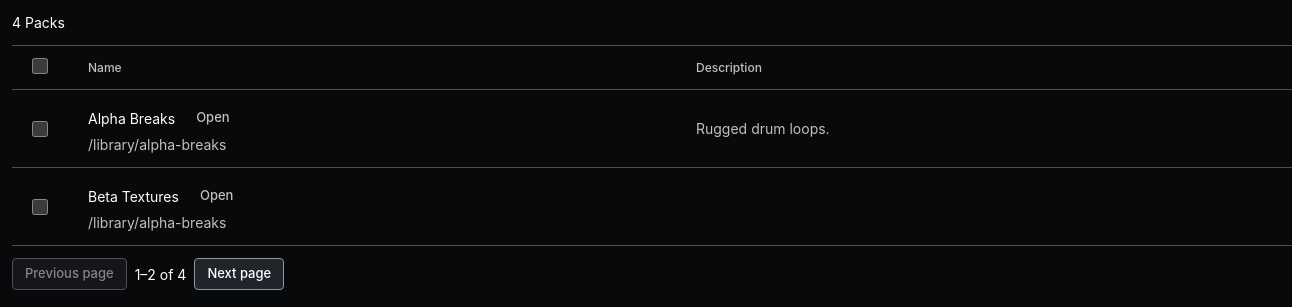
recovers when the requested page no longer holds any Pack
Expected: the row "Alpha Breaks Open /library/alpha-breaks Rugged drum loops." is shown, [12,90,1291,168]
Click the button "Next page". click: (239, 274)
box: [194,258,284,290]
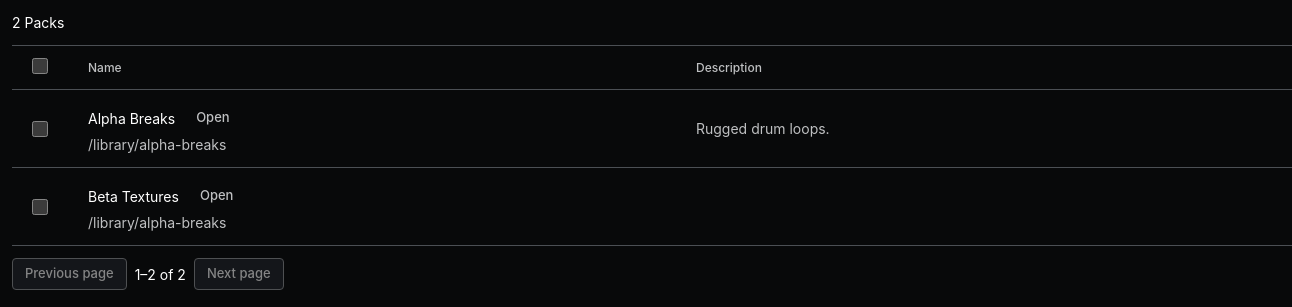
Expected: the row "Alpha Breaks Open /library/alpha-breaks Rugged drum loops." is shown, [12,90,1291,168]
Result: the text "1–2 of 2" is shown at [135,264,186,284]
